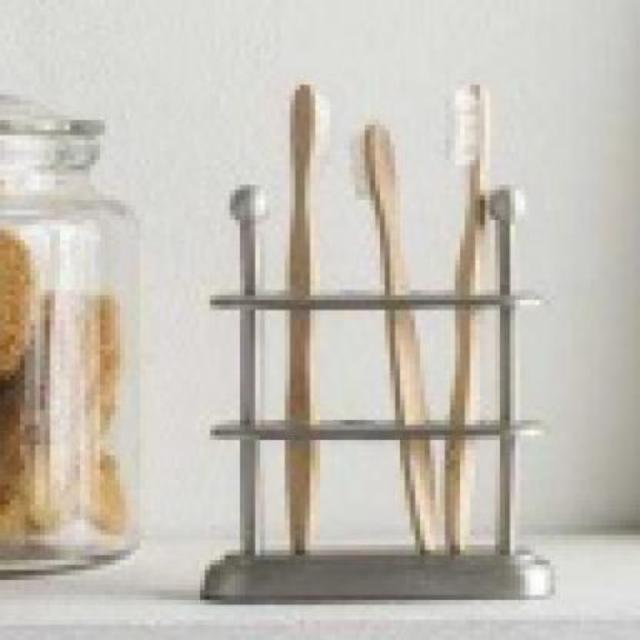toothbrush: (437, 65, 497, 585), (272, 60, 334, 560)
